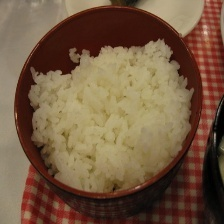rice: (21, 23, 203, 201)
